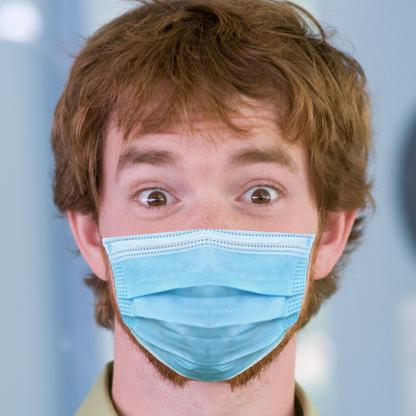mask: (100, 228, 317, 383)
